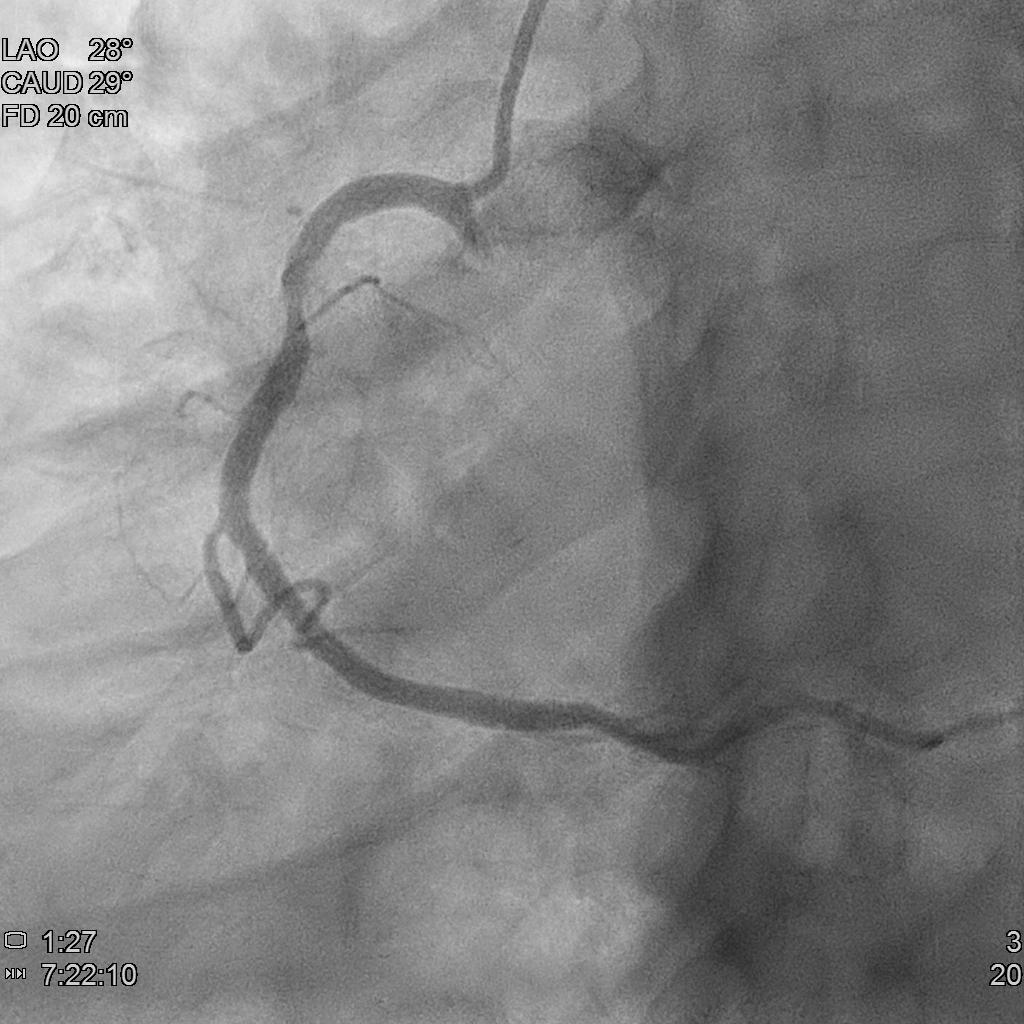block: (238, 229, 369, 390)
